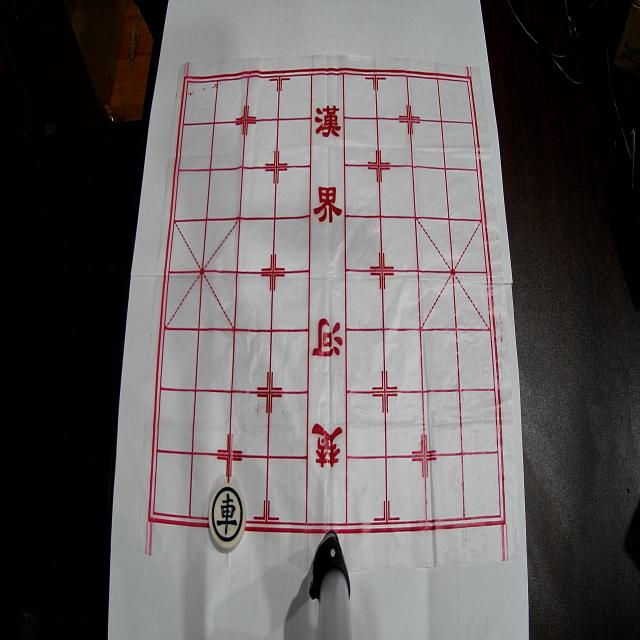black-chariot: (208, 482, 246, 550)
